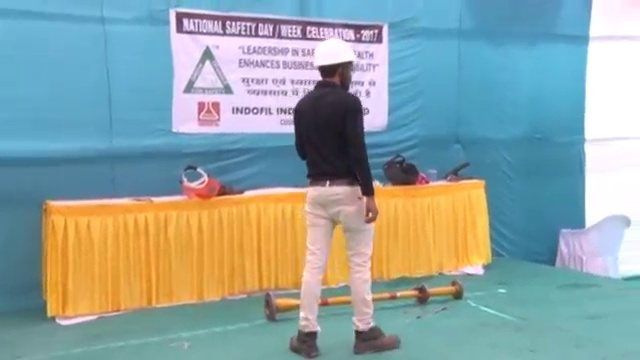helmet: (311, 37, 360, 69)
helmet_on: (310, 36, 360, 92)
person: (291, 37, 402, 357)
